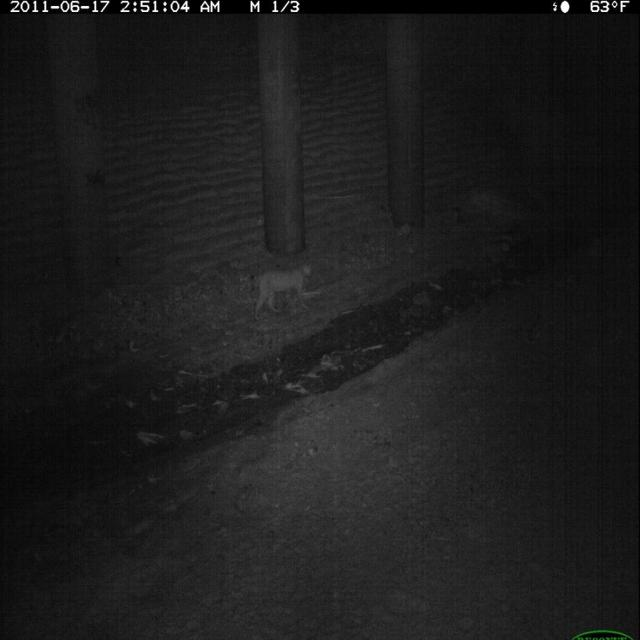bobcat: (247, 256, 319, 326)
